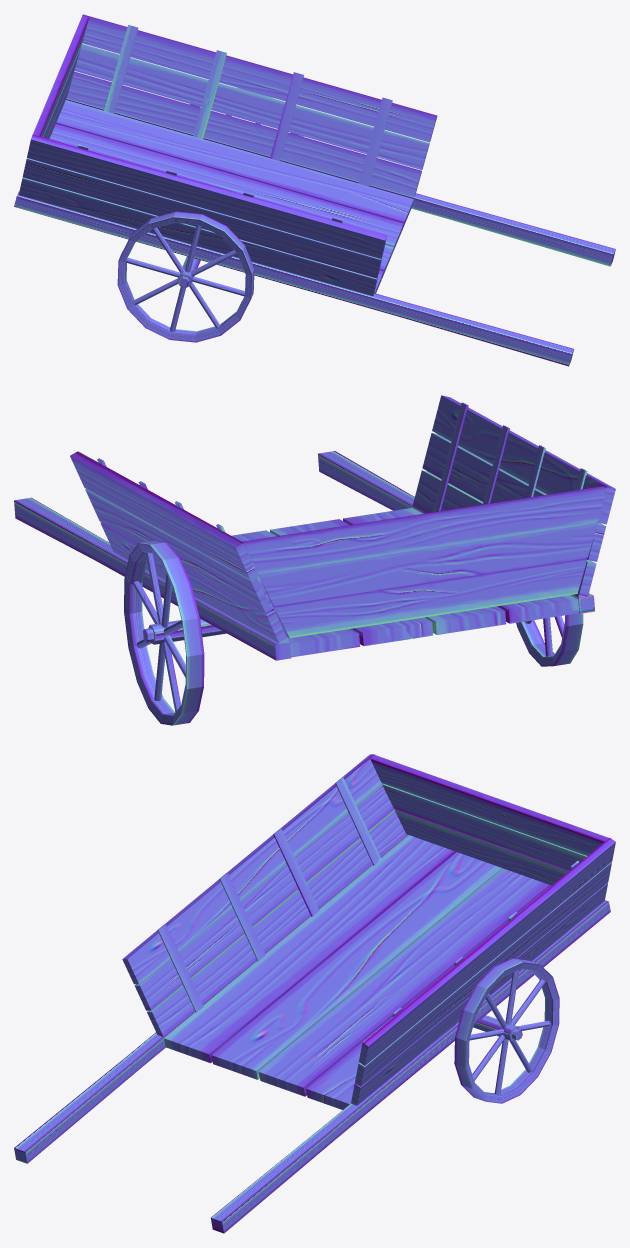
File: Sm_Wagon_A 1.fbx
The picture shows the model from 3 angles, top to bottom: view 1: azimuth 30°, elevation 25°; view 2: azimuth 150°, elevation 25°; view 3: azimuth 270°, elevation 25°; orthographic projection. The views are drawn at different scales.
Visible parts, largest first — view 1: Plane.054; view 2: Plane.054; view 3: Plane.054.
Boxes of the visible parts, <box> form: Plane.054: <box>14,14,615,366</box>; Plane.054: <box>14,395,615,725</box>; Plane.054: <box>14,754,615,1233</box>.
Size of the model in its own units: 258 by 95.27 by 244.
